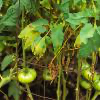Tomato Early blight leaf: (33, 35, 47, 62), (52, 23, 63, 55), (28, 20, 50, 32)
